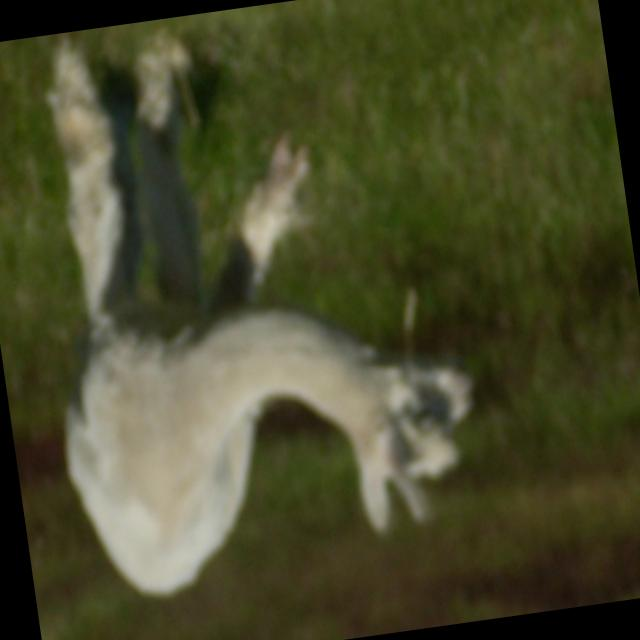alpaca: (11, 0, 495, 609)
